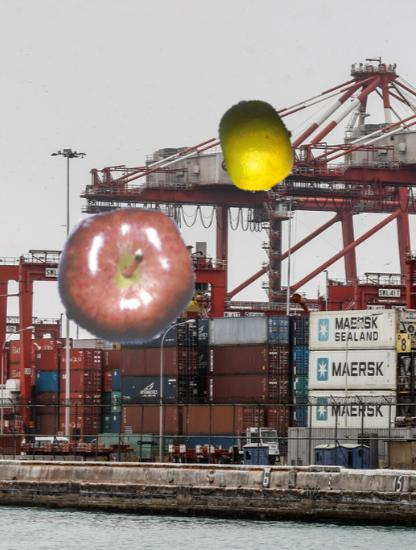Apple: (53, 203, 197, 347)
Pomelo: (210, 98, 304, 192)
